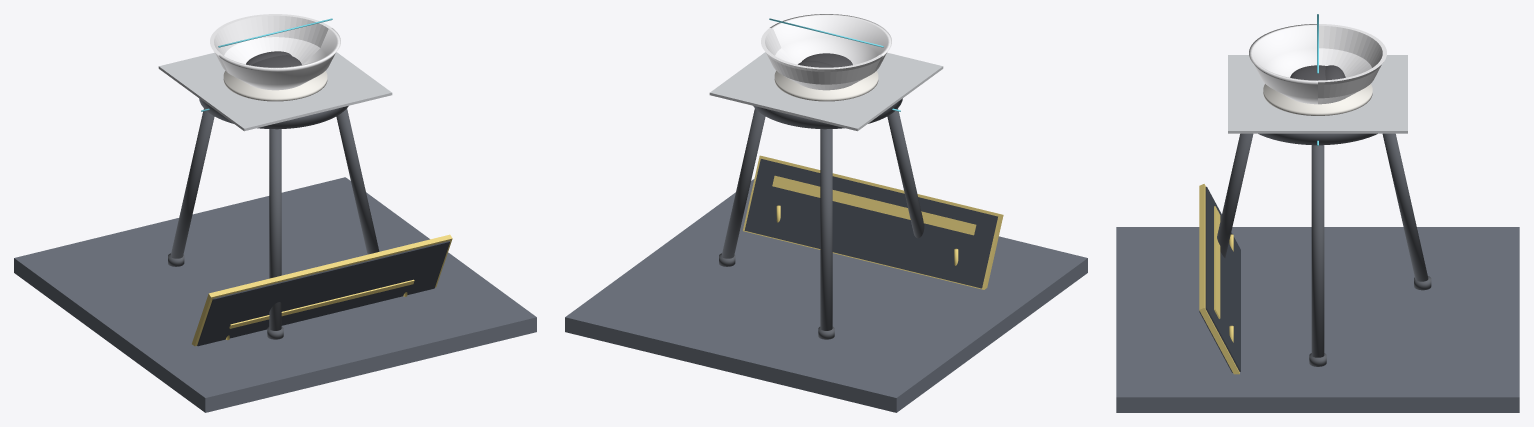
Rendered from tripod-wire-gauze.glb.
The picture shows the model from 3 angles, left to right: view 1: azimuth 30°, elevation 25°; view 2: azimuth 150°, elevation 25°; view 3: azimuth 270°, elevation 25°; orthographic projection. The views are drawn at different scales.
Visible parts, largest first — view 1: Sec_Plinth, Sec_Plaque_Board, tripod-wire-gauze_Wire_Gauze, Sec_Dish_Cutaway, tripod-wire-gauze_China_Dish, tripod-wire-gauze_Leg_2, Sec_Plaque_Frame, Sec_Gauze_Half, tripod-wire-gauze_Leg_1, tripod-wire-gauze_Leg_0, Sec_Ceramic_Pad_Half, tripod-wire-gauze_Ring (+1 smaller); view 2: Sec_Plinth, Sec_Plaque_Board, tripod-wire-gauze_Wire_Gauze, Sec_Gauze_Half, tripod-wire-gauze_China_Dish, Sec_Dish_Cutaway, tripod-wire-gauze_Leg_1, Sec_Plaque_Title, tripod-wire-gauze_Leg_0, Sec_Plaque_Frame, tripod-wire-gauze_Leg_2, Sec_Ceramic_Pad_Half (+1 smaller); view 3: Sec_Plinth, tripod-wire-gauze_Wire_Gauze, tripod-wire-gauze_China_Dish, Sec_Dish_Cutaway, Sec_Gauze_Half, Sec_Plaque_Board, tripod-wire-gauze_Leg_0, tripod-wire-gauze_Leg_1, tripod-wire-gauze_Leg_2, Sec_Ceramic_Pad_Half, Sec_Plaque_Frame, tripod-wire-gauze_Ring (+2 smaller).
Part boxes in pixels (x1,y1,x2,y2): Sec_Plinth: (14, 177, 536, 412); Sec_Plaque_Board: (197, 241, 449, 346); tripod-wire-gauze_Wire_Gauze: (159, 53, 392, 131); Sec_Dish_Cutaway: (210, 14, 331, 72); tripod-wire-gauze_China_Dish: (219, 28, 340, 90); tripod-wire-gauze_Leg_2: (269, 129, 281, 330); Sec_Plaque_Frame: (192, 234, 452, 346); Sec_Gauze_Half: (158, 52, 348, 99); tripod-wire-gauze_Leg_1: (170, 108, 214, 258); tripod-wire-gauze_Leg_0: (336, 109, 379, 254); Sec_Ceramic_Pad_Half: (223, 71, 327, 101); tripod-wire-gauze_Ring: (199, 98, 348, 129); Sec_Plinth: (565, 179, 1087, 412); Sec_Plaque_Board: (744, 159, 997, 288); tripod-wire-gauze_Wire_Gauze: (710, 52, 943, 129); Sec_Gauze_Half: (709, 61, 900, 131); tripod-wire-gauze_China_Dish: (770, 14, 891, 72); Sec_Dish_Cutaway: (761, 28, 882, 90); tripod-wire-gauze_Leg_1: (820, 129, 832, 330); Sec_Plaque_Title: (772, 175, 976, 235); tripod-wire-gauze_Leg_0: (721, 109, 765, 258); Sec_Plaque_Frame: (743, 155, 1003, 289); tripod-wire-gauze_Leg_2: (887, 108, 924, 238); Sec_Ceramic_Pad_Half: (774, 71, 878, 101); Sec_Plinth: (1116, 227, 1519, 412); tripod-wire-gauze_Wire_Gauze: (1228, 55, 1407, 133); tripod-wire-gauze_China_Dish: (1249, 24, 1317, 104); Sec_Dish_Cutaway: (1318, 24, 1386, 104); Sec_Gauze_Half: (1318, 55, 1407, 133); Sec_Plaque_Board: (1199, 186, 1240, 372); tripod-wire-gauze_Leg_0: (1311, 145, 1324, 357); tripod-wire-gauze_Leg_1: (1382, 133, 1428, 281); tripod-wire-gauze_Leg_2: (1217, 133, 1253, 257); Sec_Ceramic_Pad_Half: (1263, 84, 1372, 115); Sec_Plaque_Frame: (1199, 184, 1239, 374); tripod-wire-gauze_Ring: (1258, 133, 1377, 145).
Size of the model in its own units: 0.28 by 0.2181 by 0.28.
